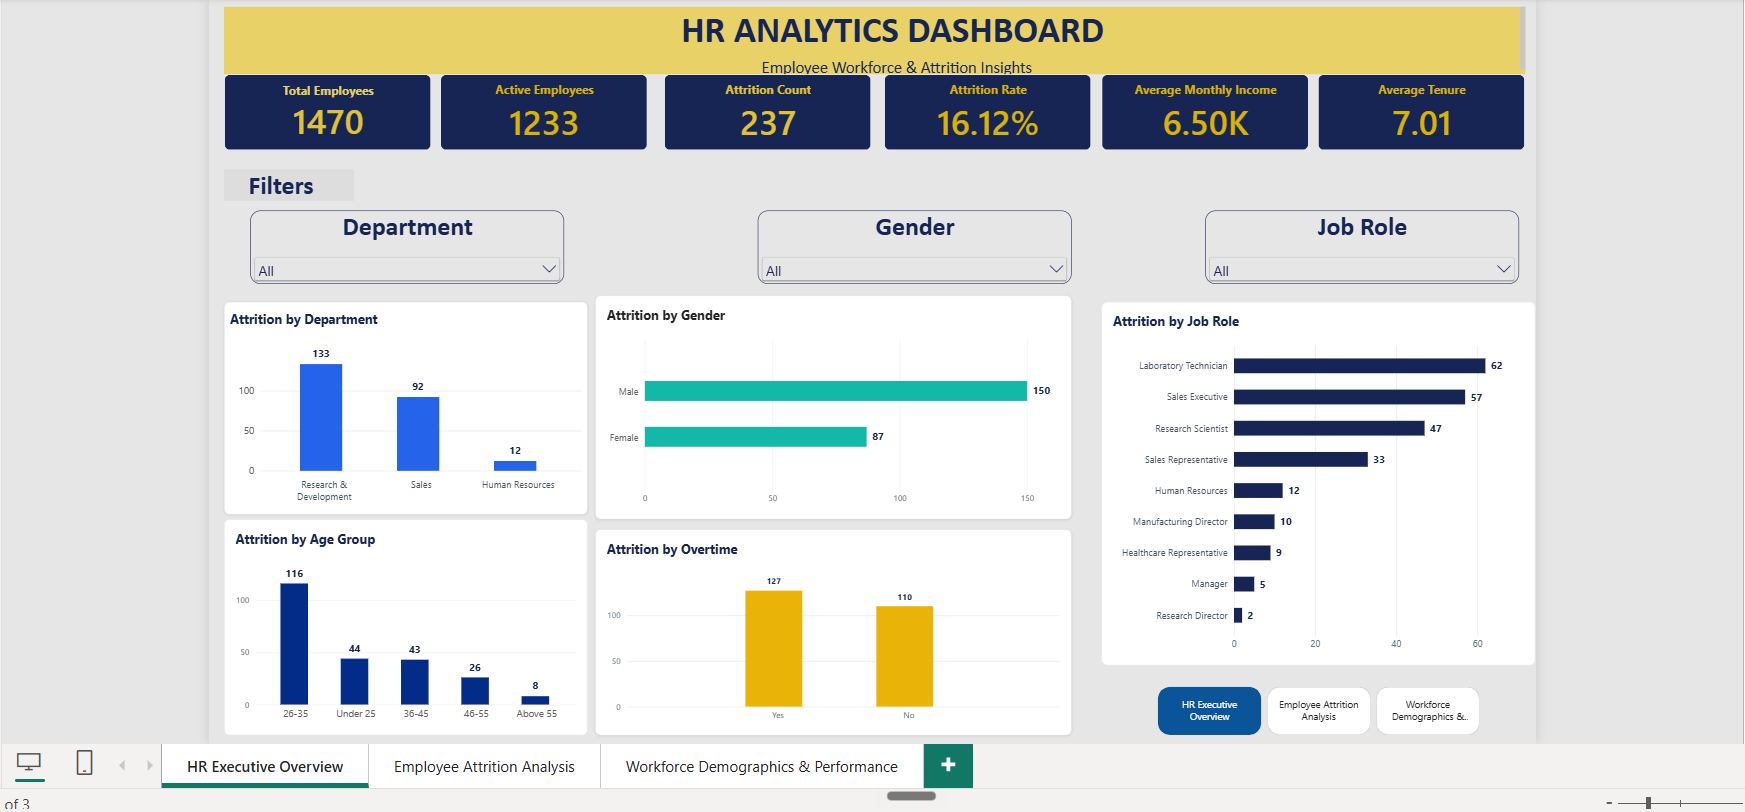

The dashboard page shown, as its layout file describes it:
{"tool":"powerbi","page":{"name":"HR Executive Overview","canvas":[1920,1080],"ordinal":0},"visuals":[{"type":"cardVisual","title":"Total Employees","fields":{"Data":["HR Measures.Total Employees"]},"box":[21.7,110.4,300,110],"z":0},{"type":"cardVisual","fields":{"Data":["HR Measures.Active Employees"]},"box":[334.8,110.4,300,110],"z":1000},{"type":"cardVisual","fields":{"Data":["HR Measures.Attrition Count"]},"box":[658.7,110.4,300,110],"z":2000},{"type":"cardVisual","fields":{"Data":["HR Measures.Attrition Rate"]},"box":[977.2,110.4,300,110],"z":3000},{"type":"cardVisual","fields":{"Data":["HR Measures.Average Monthly Income"]},"box":[1292.1,110.4,300,110],"z":4000},{"type":"cardVisual","fields":{"Data":["HR Measures.Average Tenure"]},"box":[1605.2,110.4,300,110],"z":5000},{"type":"clusteredColumnChart","title":"\tAttrition by Department","fields":{"Category":["FactEmployee.Department"],"Y":["HR Measures.Attrition Count"]},"box":[21.7,439.7,526.6,307.6],"z":6000},{"type":"clusteredBarChart","title":"\tAttrition by Gender","fields":{"Category":["FactEmployee.Gender"],"Y":["HR Measures.Attrition Count"]},"box":[559.2,430.7,689.5,323.9],"z":7000},{"type":"clusteredColumnChart","title":"\tAttrition by Age Group","fields":{"Category":["FactEmployee.Age Group"],"Y":["HR Measures.Attrition Count"]},"box":[21.7,754.6,526.6,313.1],"z":8000},{"type":"clusteredBarChart","title":"Attrition by Job Role","fields":{"Category":["DimJobRole.JobRole"],"Y":["HR Measures.Attrition Count"]},"box":[1292.1,439.7,628,526.6],"z":9000},{"type":"clusteredColumnChart","title":"Attrition by Overtime","fields":{"Category":["FactEmployee.OverTime"],"Y":["HR Measures.Attrition Count"]},"box":[559.2,769.1,689.5,298.6],"z":10000},{"type":"slicer","title":"Department","fields":{"Values":["DimDepartment.Department"]},"box":[59.7,307.6,454.2,106.8],"z":11000},{"type":"slicer","title":"Gender","fields":{"Values":["FactEmployee.Gender"]},"box":[794.4,307.6,454,106],"z":12000},{"type":"textbox","box":[1770,230,150,368],"z":13000},{"type":"textbox","box":[21.7,12.7,1883.9,97.7],"z":14000},{"type":"slicer","title":"Job Role","fields":{"Values":["DimJobRole.JobRole"]},"box":[1442.3,307.6,454,106],"z":15000},{"type":"textbox","box":[21.7,247.9,188.2,45.2],"z":16000},{"type":"pageNavigator","box":[1373.5,997.1,466.9,70.6],"z":16001}]}

Visuals, with their boxes on the page's 1920x1080 design canvas (x1, y1, x2, y2). These are canvas units, not pixel positions in the 1745x812 screenshot, which may show the page scaled, cropped or inside an application window:
"Total Employees" cardVisual: (left=22, top=110, right=322, bottom=220)
cardVisual - HR Measures.Active Employees: (left=335, top=110, right=635, bottom=220)
cardVisual - HR Measures.Attrition Count: (left=659, top=110, right=959, bottom=220)
cardVisual - HR Measures.Attrition Rate: (left=977, top=110, right=1277, bottom=220)
cardVisual - HR Measures.Average Monthly Income: (left=1292, top=110, right=1592, bottom=220)
cardVisual - HR Measures.Average Tenure: (left=1605, top=110, right=1905, bottom=220)
"	Attrition by Department" clusteredColumnChart: (left=22, top=440, right=548, bottom=747)
"	Attrition by Gender" clusteredBarChart: (left=559, top=431, right=1249, bottom=755)
"	Attrition by Age Group" clusteredColumnChart: (left=22, top=755, right=548, bottom=1068)
"Attrition by Job Role" clusteredBarChart: (left=1292, top=440, right=1920, bottom=966)
"Attrition by Overtime" clusteredColumnChart: (left=559, top=769, right=1249, bottom=1068)
"Department" slicer: (left=60, top=308, right=514, bottom=414)
"Gender" slicer: (left=794, top=308, right=1248, bottom=414)
textbox: (left=1770, top=230, right=1920, bottom=598)
textbox: (left=22, top=13, right=1906, bottom=110)
"Job Role" slicer: (left=1442, top=308, right=1896, bottom=414)
textbox: (left=22, top=248, right=210, bottom=293)
pageNavigator: (left=1374, top=997, right=1840, bottom=1068)
